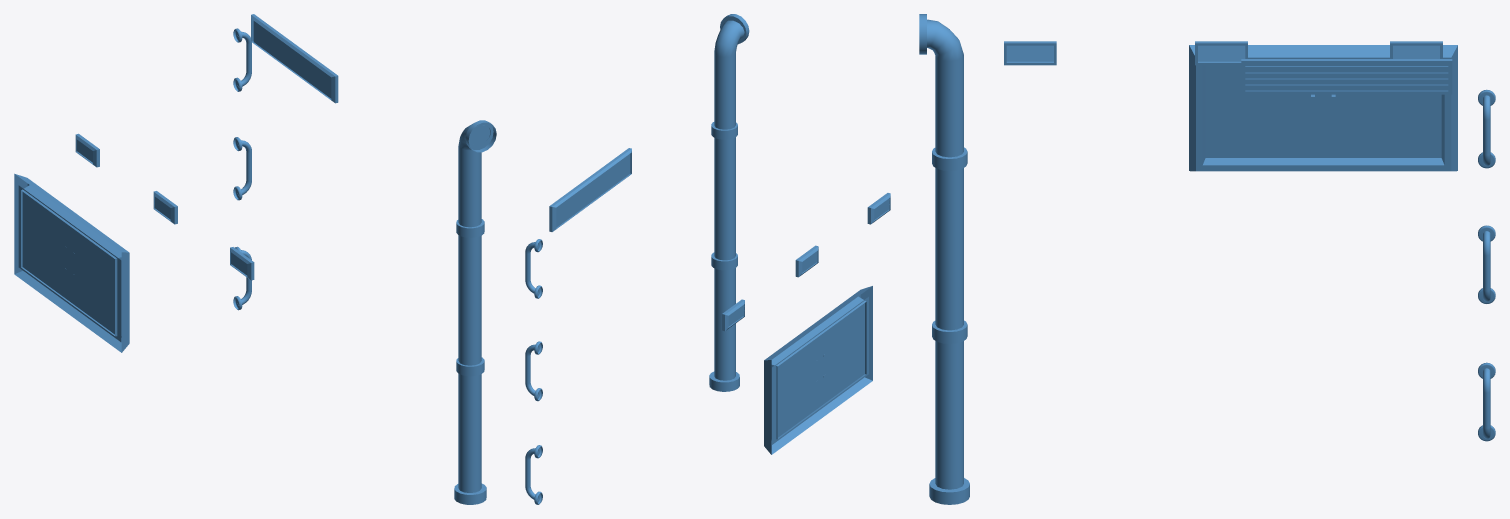
Rendered from Metal.fbx.
3 views of the same model, side by side, from view 1: azimuth 30°, elevation 25°; view 2: azimuth 150°, elevation 25°; view 3: azimuth 270°, elevation 25° (orthographic). The views are drawn at different scales.
Visible parts, largest first — view 1: Window, Pipe_Large, Vent_Long, Handle3, Handle4; view 2: Window, Pipe_Large, Vent_Long, Handle5, Handle4, Handle3, Vent_Small, Vent_Small_03, Vent_Small_02; view 3: Window, Pipe_Large, Vent_Long, Vent_Small_03, Vent_Small, Vent_Small_02, Handle5, Handle4, Handle3.
Boxes of the visible parts, x1,y1,x2,y2 form: Window: (14,173,129,352); Pipe_Large: (454,120,496,504); Vent_Long: (251,14,338,103); Handle3: (233,137,251,200); Handle4: (233,28,251,91); Window: (764,286,872,454); Pipe_Large: (709,14,749,391); Vent_Long: (549,148,631,231); Handle5: (525,445,542,504); Handle4: (525,239,542,298); Handle3: (525,341,542,401); Vent_Small: (795,245,818,277); Vent_Small_03: (867,193,890,224); Vent_Small_02: (722,299,744,331); Window: (1189,45,1457,171); Pipe_Large: (919,14,969,504); Vent_Long: (1241,59,1452,94); Vent_Small_03: (1004,41,1056,65); Vent_Small: (1195,41,1247,65); Vent_Small_02: (1390,41,1442,58); Handle5: (1478,362,1495,441); Handle4: (1478,89,1495,168); Handle3: (1478,225,1495,303).
Size of the model in its own units: 64.39 by 88.55 by 96.28.
